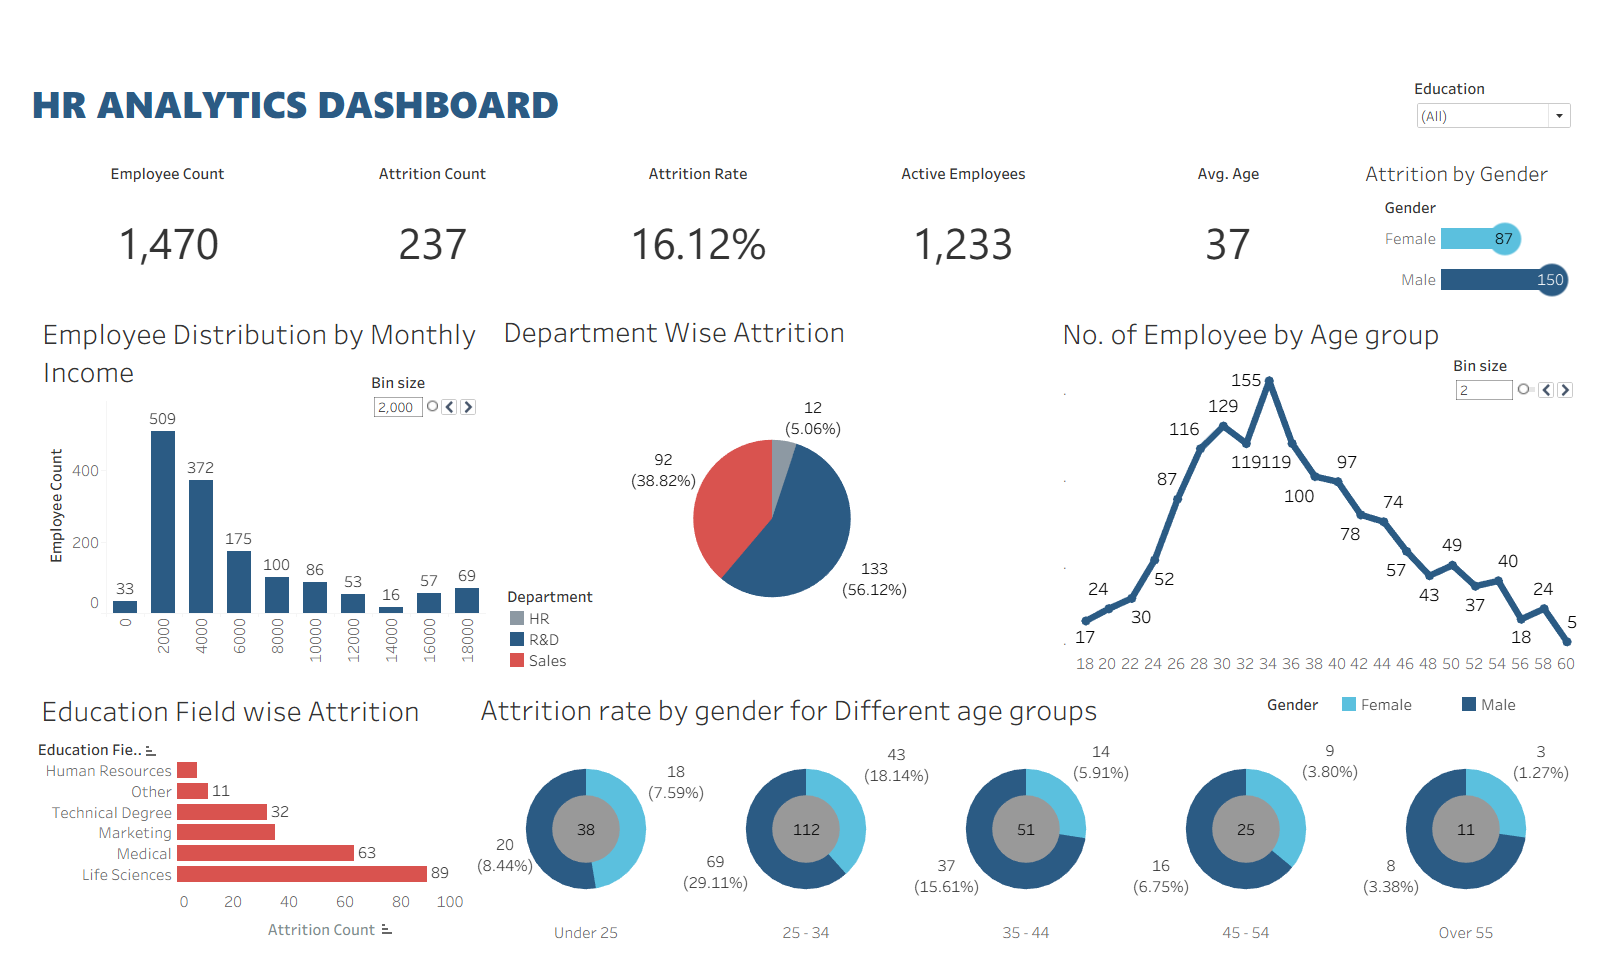

This screenshot's page, from the dashboard's own definition file:
{"tool":"tableau","page":{"name":"HR ANALYTICS DASHBOARD","canvas":[1600,900],"ordinal":0},"visuals":[{"type":"title","box":[8,8,1584,58]},{"type":"filter","title":"Department Wise Attrition","param":"[federated.1rvj7140z5jab519u9zbk1odkbae].[none:Education:nk]","box":[1398,12,160,54]},{"type":"worksheet","title":"Attrition by Gender","mark":"Automatic","rows":["Gender"],"cols":["Calculation_1135258540961792","Calculation_1135258540961792"],"box":[1345,89,213,145]},{"type":"worksheet","title":"KPI","mark":"Text","box":[19,97,1326,138]},{"type":"worksheet","title":"Department Wise Attrition","mark":"Pie","box":[483,242,546,368]},{"type":"worksheet","title":"Employee Distribution by Monthly Income","mark":"Bar","rows":["Employee Count"],"cols":["Monthly Income (bin)"],"box":[22,244,448,363]},{"type":"worksheet","title":"No. of Employee by Age group","mark":"Line","rows":["Employee Count"],"cols":["Age (bin)"],"box":[1042,244,520,365]},{"type":"parameter","param":"[Parameters].[Parameter 1725697739558912]","box":[1437,289,123,48]},{"type":"parameter","param":"[Parameters].[Parameter 1725697757933575]","box":[355,306,108,55]},{"type":"legend","title":"Department Wise Attrition","param":"[federated.1rvj7140z5jab519u9zbk1odkbae].[none:Department:nk]","box":[491,520,140,85]},{"type":"worksheet","title":"Attrition rate by gender for Different age groups","mark":"Pie","rows":["Calculation_1725697821515794","Calculation_1725697821515794"],"cols":["CF_age band"],"box":[460,620,1100,258]},{"type":"worksheet","title":"Education Field wise Attrition","mark":"Automatic","rows":["Education Field"],"cols":["Calculation_1135258540961792"],"box":[21,621,429,261]},{"type":"legend","title":"Attrition rate by gender for Different age groups","param":"[federated.1rvj7140z5jab519u9zbk1odkbae].[none:Gender:nk]","box":[1251,628,323,38]}]}

Visuals, with their boxes on the page's 1600x900 design canvas (x1, y1, x2, y2). These are canvas units, not pixel positions in the 1620x977 screenshot, which may show the page scaled, cropped or inside an application window:
title: region(8, 8, 1592, 66)
"Department Wise Attrition" filter: region(1398, 12, 1558, 66)
"Attrition by Gender" worksheet: region(1345, 89, 1558, 234)
"KPI" worksheet (Text marks): region(19, 97, 1345, 235)
"Department Wise Attrition" worksheet (Pie marks): region(483, 242, 1029, 610)
"Employee Distribution by Monthly Income" worksheet (Bar marks): region(22, 244, 470, 607)
"No. of Employee by Age group" worksheet (Line marks): region(1042, 244, 1562, 609)
parameter: region(1437, 289, 1560, 337)
parameter: region(355, 306, 463, 361)
"Department Wise Attrition" legend: region(491, 520, 631, 605)
"Attrition rate by gender for Different age groups" worksheet (Pie marks): region(460, 620, 1560, 878)
"Education Field wise Attrition" worksheet: region(21, 621, 450, 882)
"Attrition rate by gender for Different age groups" legend: region(1251, 628, 1574, 666)
